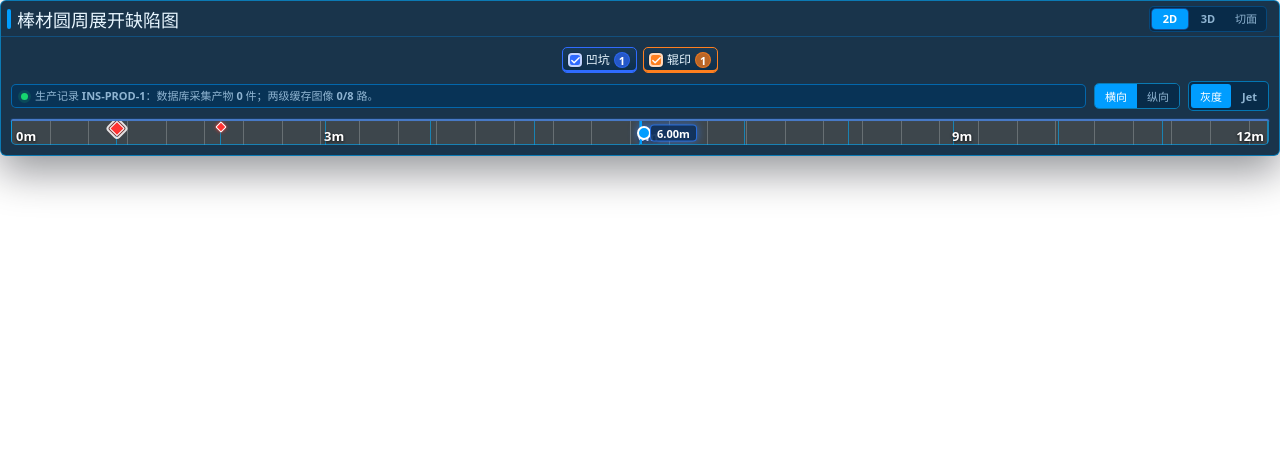
Test: PlateMap › fails closed in production when the selected record has no 3D or point-cloud artifact
expect the text "生产记录 INS-PROD-1：数据库采集产物 0 件；两级缓存图像 0/8 路。" is shown: met, box x1=11 y1=84 x2=1086 y2=108
Click the button "3D" at (1208, 18), box x1=1190 y1=8 x2=1226 y2=28
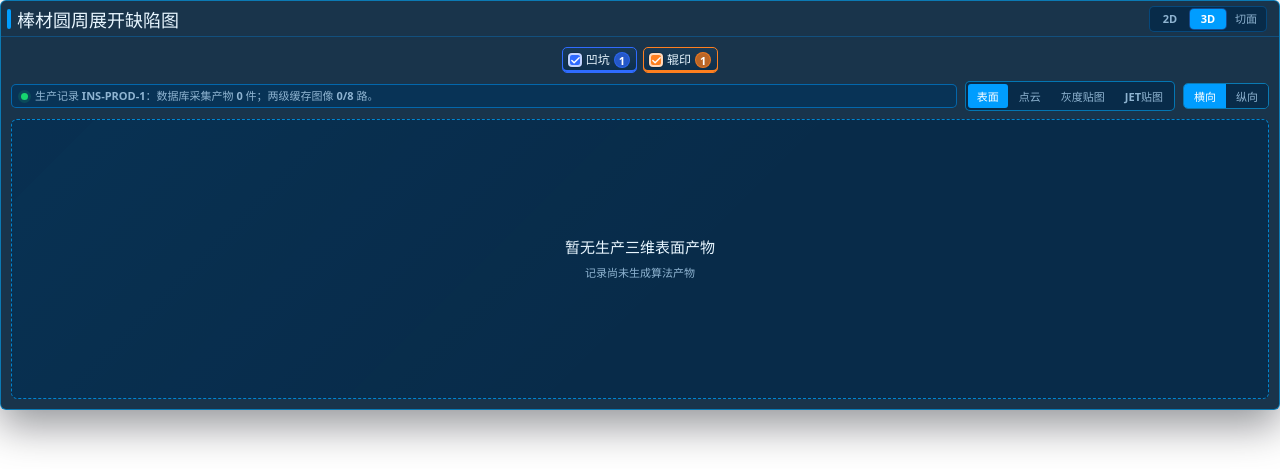
expect the message with test id "plate-production-surface-empty" shows "暂无生产三维表面产物": met, box x1=565 y1=238 x2=715 y2=258
Click the button "点云" at (1030, 96), box x1=1010 y1=84 x2=1050 y2=108
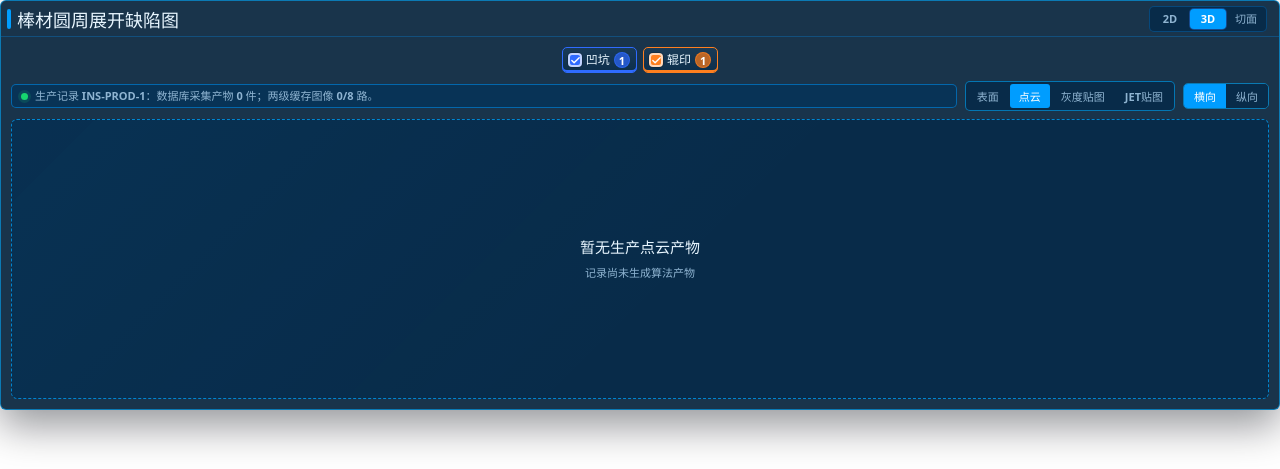
expect the message with test id "plate-production-point-cloud-empty" shows "暂无生产点云产物": met, box x1=580 y1=238 x2=700 y2=258
